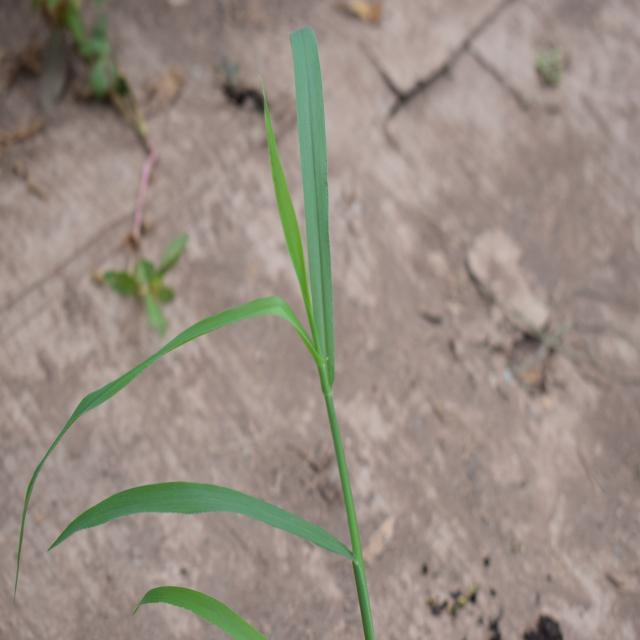crabgrass: (52, 42, 372, 591)
